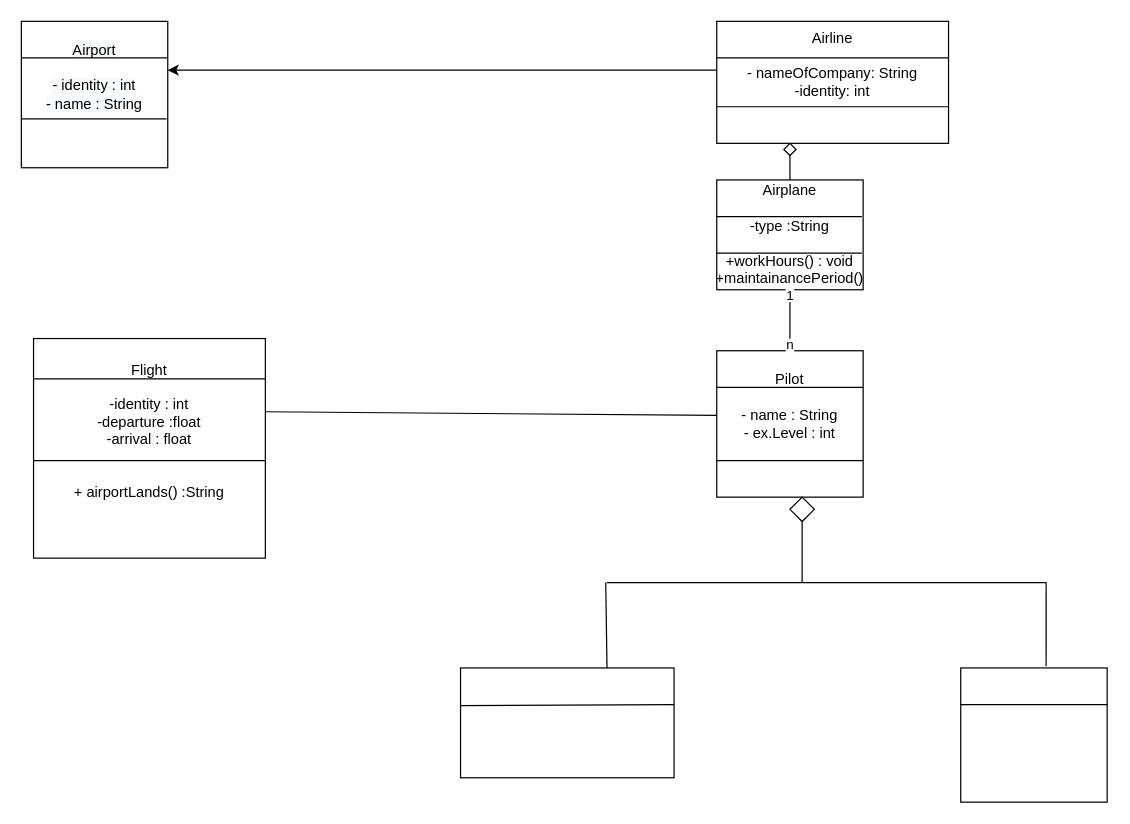
This 1130x824 diagram has some shape labels left out. The shapes that lost their labels are listed below. From the top down, each one's centre as x and y in pixels, then its label:
At point 566,722: "Main Pilot".
At point 1033,734: "Co-Pilot".
